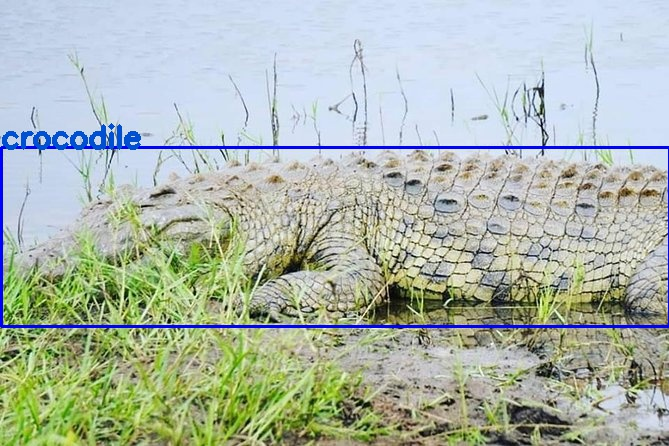crocodile: (0, 147, 668, 325)
